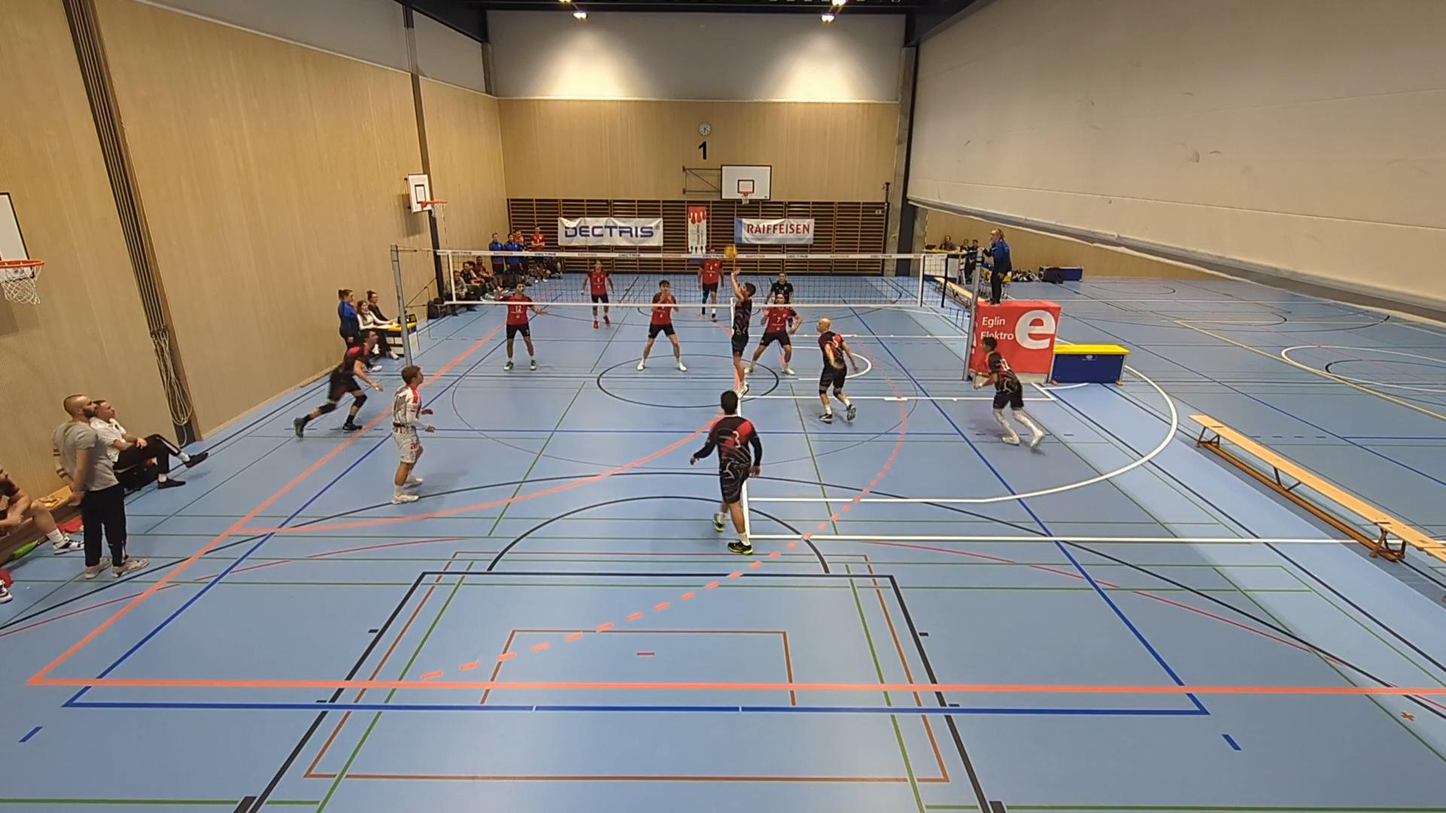alzata: (721, 264, 758, 375)
